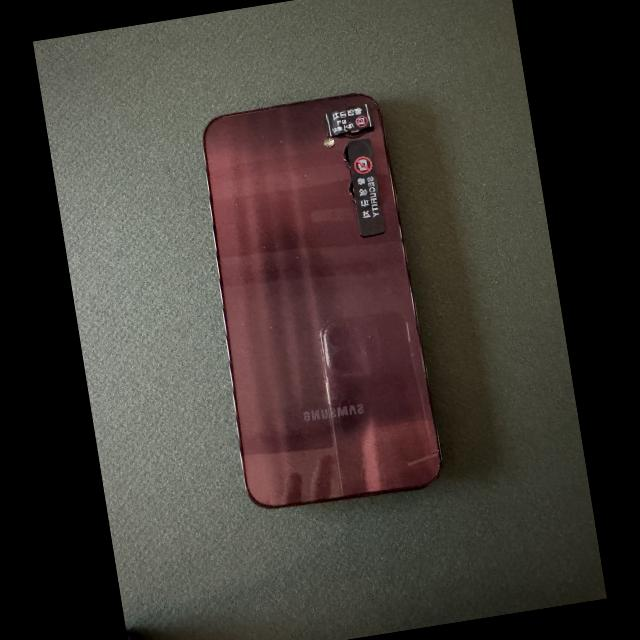lens: (349, 182, 354, 200), (344, 147, 347, 163)
phone: (204, 94, 441, 507)
sticker: (347, 138, 386, 236), (324, 105, 375, 137)
